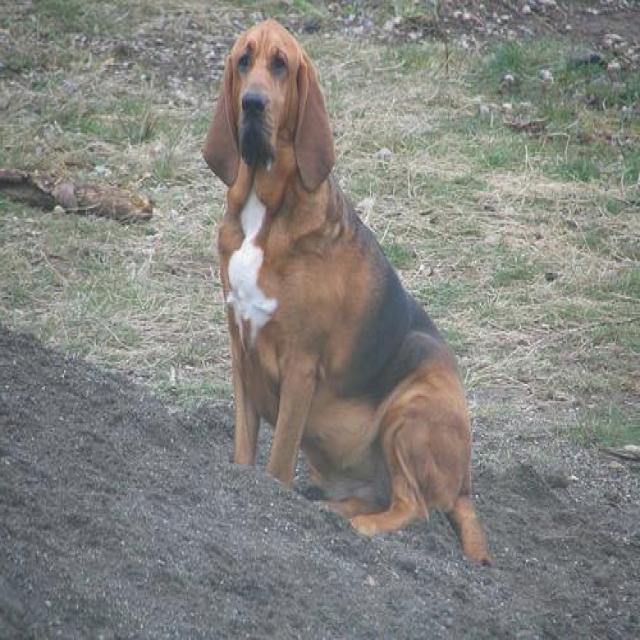bloodhound: (203, 15, 497, 567)
